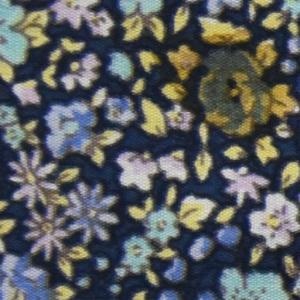Oil Stain: (155, 29, 300, 142)
